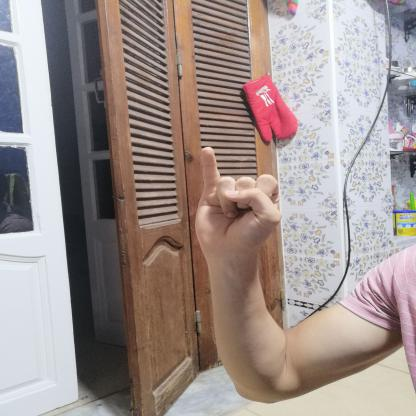MEEM: (180, 141, 291, 259)
